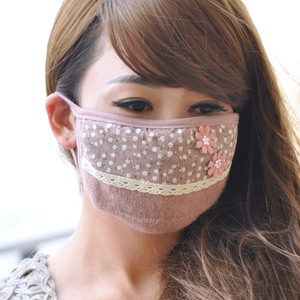face_mask: (77, 55, 237, 230)
